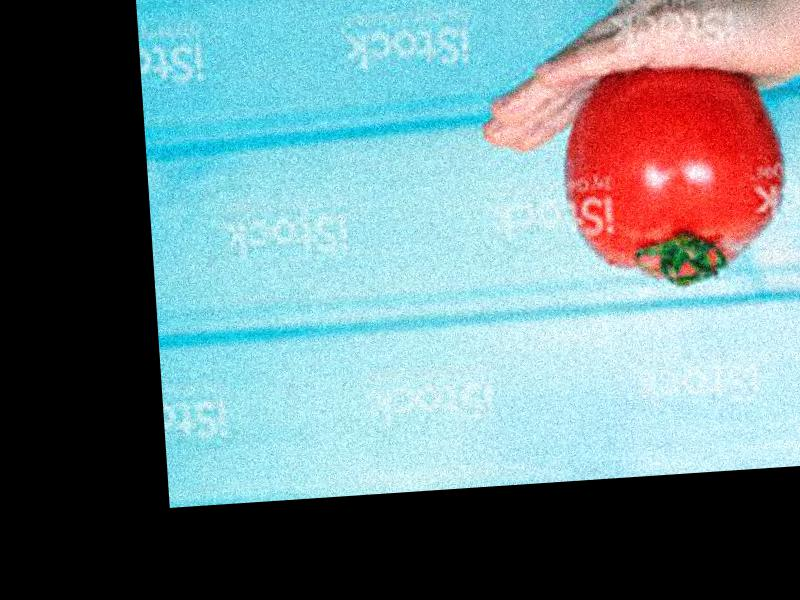Tomato: (557, 59, 786, 290)
